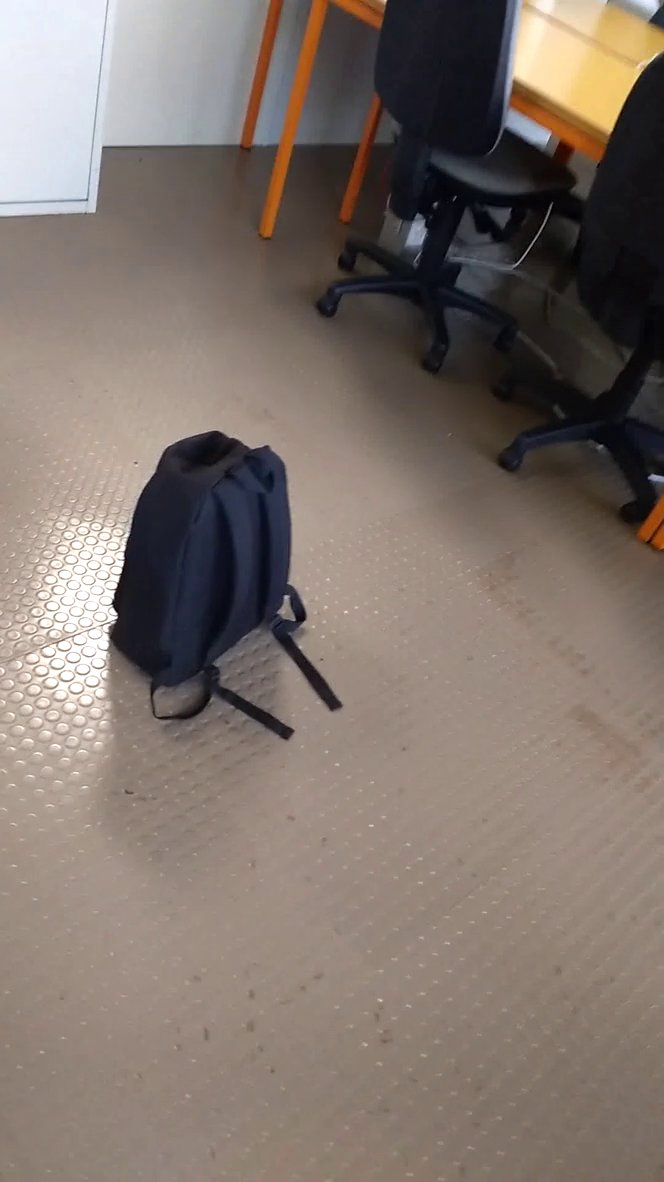bag: (104, 419, 358, 752)
chair: (344, 1, 573, 390)
